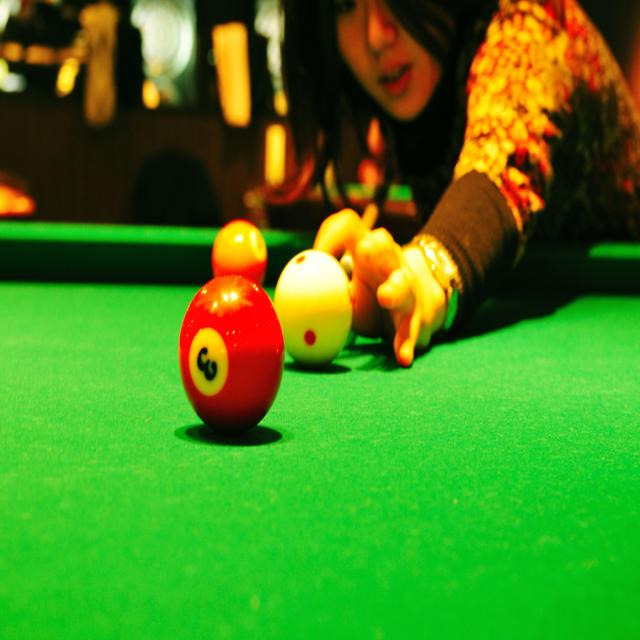Ball: (180, 277, 286, 435), (272, 250, 354, 366), (209, 218, 269, 286)
Billiard table: (0, 214, 639, 639)
